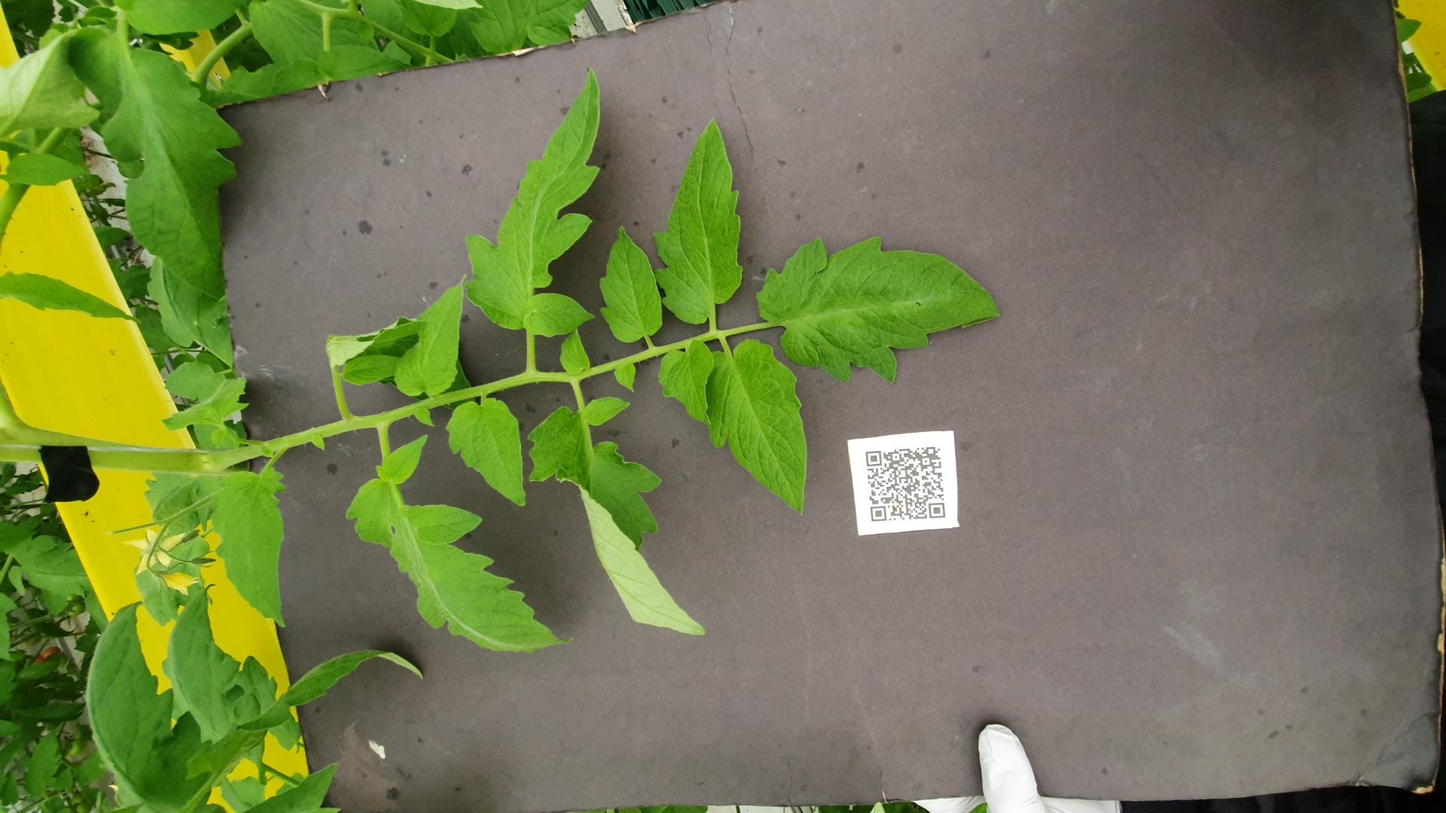Healthy: (281, 195, 672, 324), (912, 38, 1400, 134), (846, 261, 1328, 337), (761, 426, 1028, 563), (0, 47, 380, 118), (863, 367, 1235, 419), (520, 397, 839, 455), (329, 120, 620, 161), (545, 251, 738, 297), (742, 221, 958, 262), (835, 336, 1046, 373), (690, 370, 842, 402), (760, 191, 814, 226)
